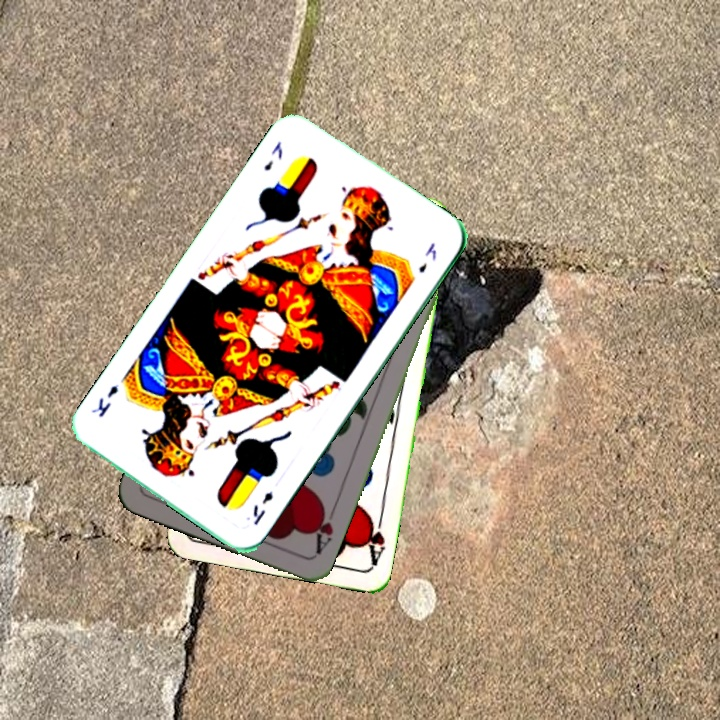EK: (248, 488, 276, 528), (259, 137, 286, 174)
HA: (307, 499, 339, 558), (360, 508, 388, 568)
